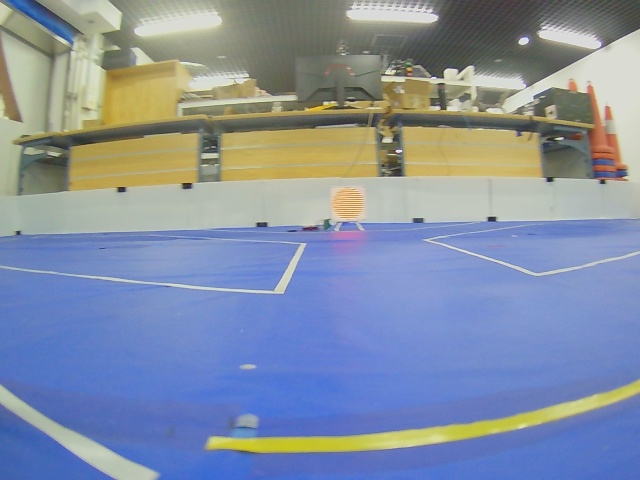red: (331, 187, 365, 222)
